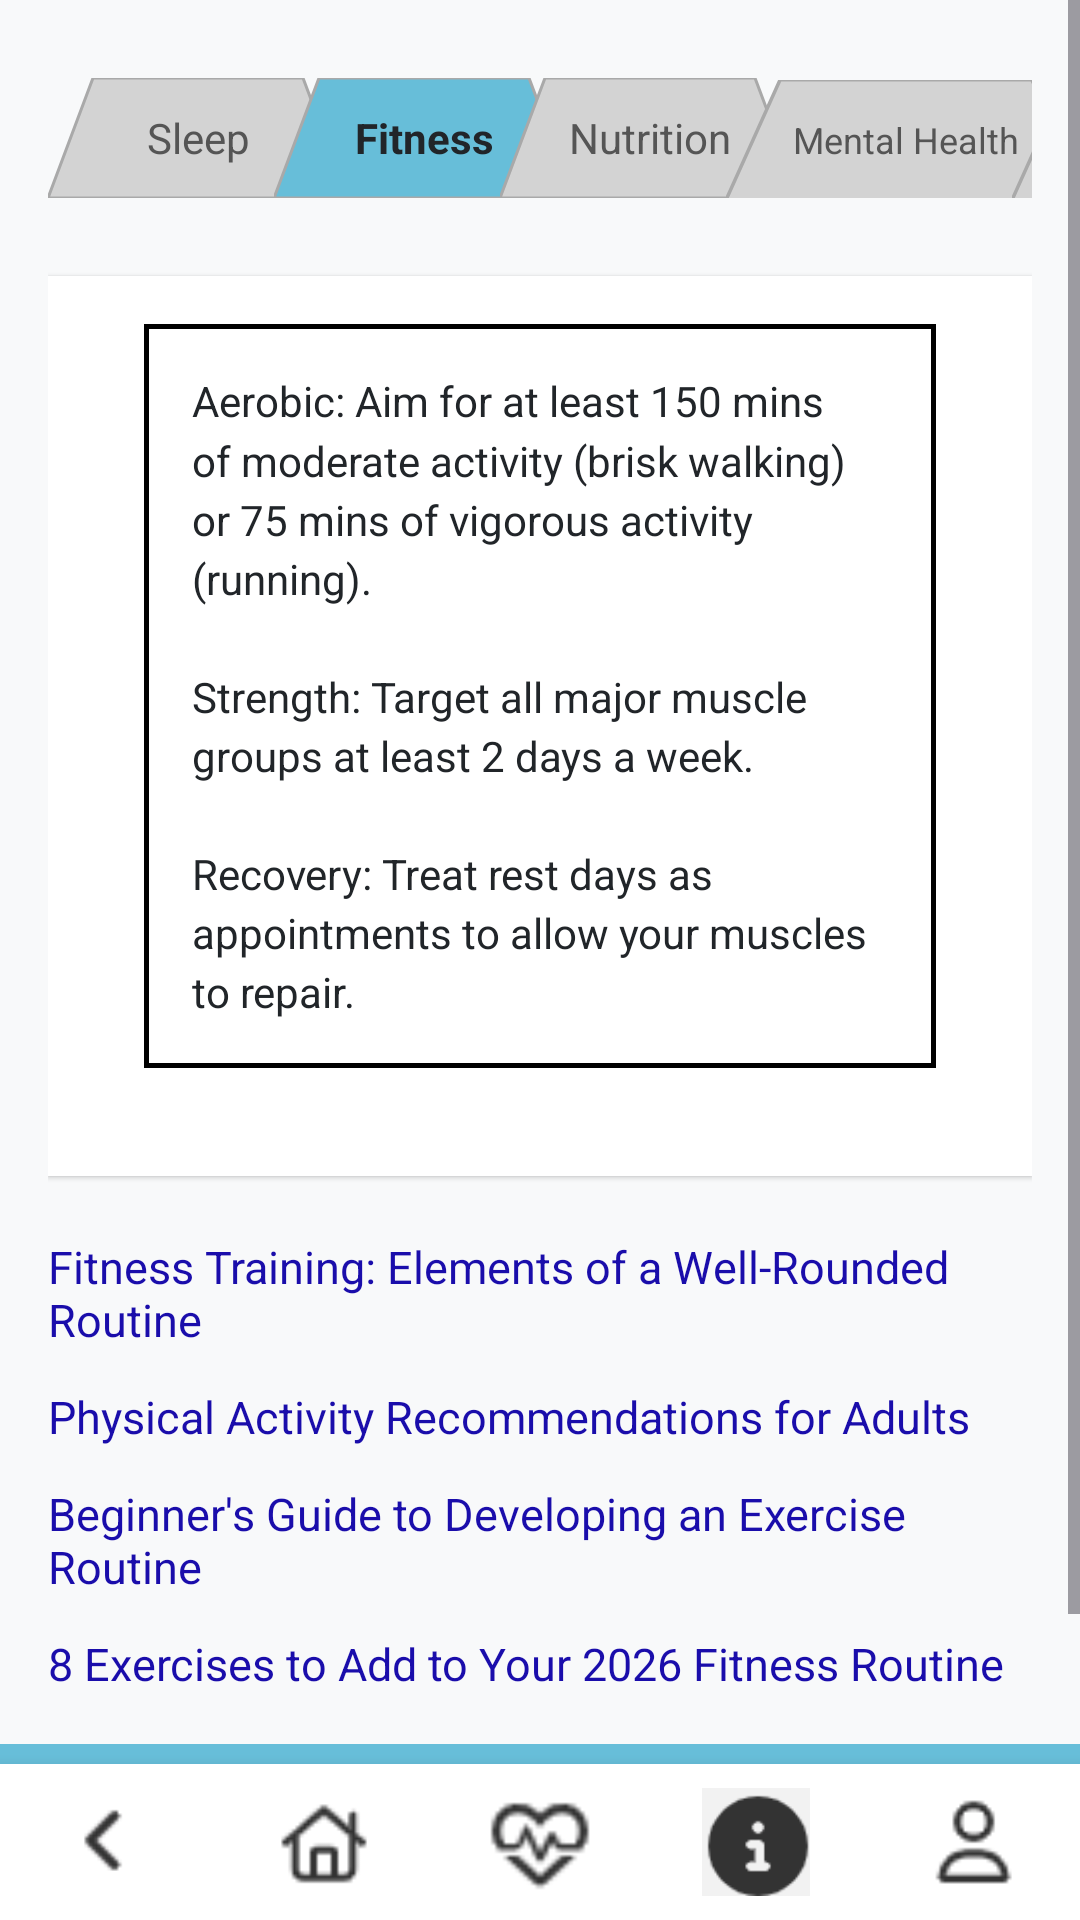

Icon click points for this 1080 × 1920 phone screenshot, format (x,y):
Back: (103,1840)
Home: (324,1843)
Info: (758,1845)
Profile: (974,1842)
